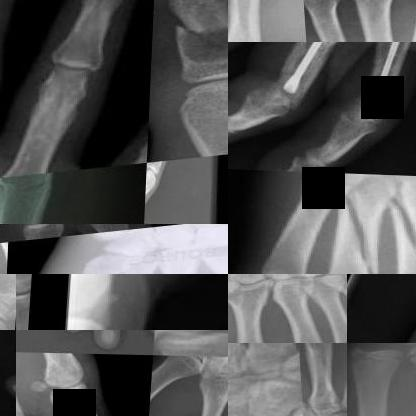fracture: (308, 185, 381, 273), (270, 42, 351, 100), (353, 42, 414, 113), (373, 189, 415, 273), (0, 175, 66, 220), (347, 343, 415, 381), (188, 18, 227, 72), (298, 348, 341, 386), (390, 0, 415, 42), (16, 297, 36, 326), (268, 28, 305, 41)
